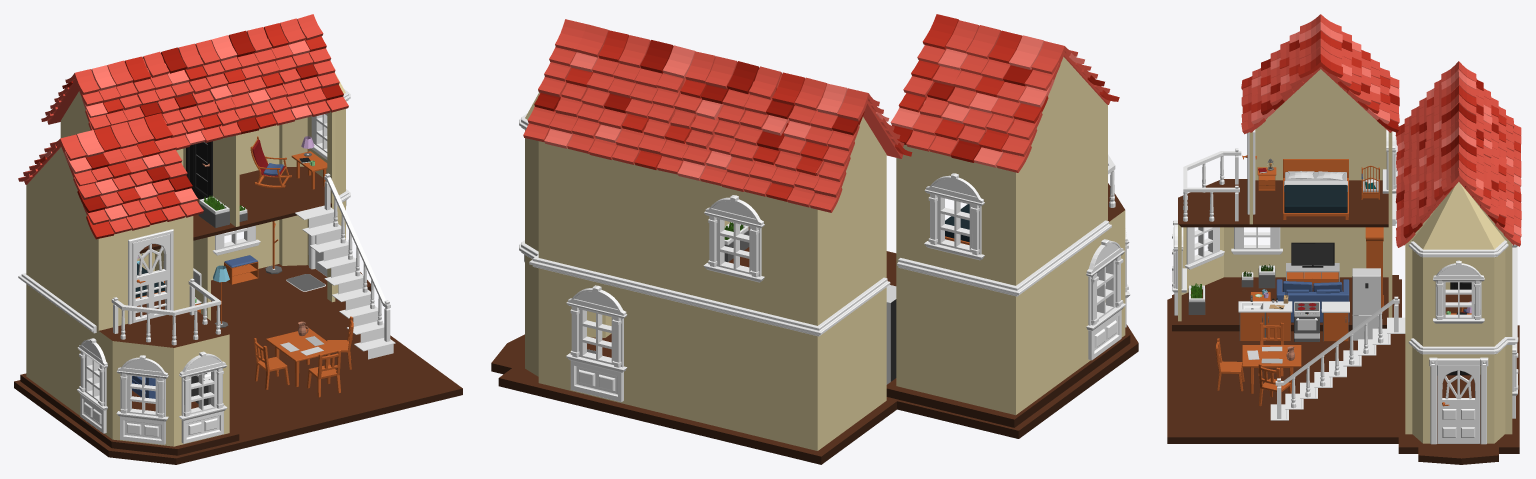
Rendered from rabbit_house.fbx.
The picture shows the model from 3 angles, left to right: view 1: azimuth 30°, elevation 25°; view 2: azimuth 150°, elevation 25°; view 3: azimuth 270°, elevation 25°; orthographic projection. The views are drawn at different scales.
Visible parts, largest first — view 1: house_scene, floor_scene, rooftop_scene.002, rooftop_scene, stairs_scene, window_2_scene.004, window_2_scene.001, door_1_scene.001, window_2_scene.002, balcony_fence_scene, table_scene, door_2_scene (+8 smaller); view 2: house_scene, rooftop_scene.002, rooftop_scene, floor_scene, window_2_scene.003, window_1_scene.001, window_2_scene.002, window_1_scene.002, freezer_scene; view 3: house_scene, floor_scene, rooftop_scene.002, rooftop_scene, stairs_scene, bed_scene, door_1_scene, window_1_scene, kitchen_scene, freezer_scene, couch_scene, balcony_fence_scene (+18 smaller).
Boxes of the visible parts, bbox=[...] form: house_scene: bbox=[18, 72, 350, 446]; floor_scene: bbox=[14, 264, 462, 464]; rooftop_scene.002: bbox=[41, 14, 348, 150]; rooftop_scene: bbox=[18, 113, 203, 239]; stairs_scene: bbox=[295, 173, 395, 359]; window_2_scene.004: bbox=[116, 355, 168, 444]; window_2_scene.001: bbox=[179, 351, 227, 443]; door_1_scene.001: bbox=[132, 234, 169, 323]; window_2_scene.002: bbox=[77, 338, 107, 433]; balcony_fence_scene: bbox=[111, 278, 221, 345]; table_scene: bbox=[266, 328, 338, 386]; door_2_scene: bbox=[190, 142, 209, 199]; house_scene: bbox=[519, 57, 1125, 450]; rooftop_scene.002: bbox=[523, 19, 912, 212]; rooftop_scene: bbox=[890, 14, 1119, 172]; floor_scene: bbox=[491, 227, 1138, 464]; window_2_scene.003: bbox=[566, 285, 627, 402]; window_1_scene.001: bbox=[703, 195, 764, 282]; window_2_scene.002: bbox=[1086, 239, 1125, 360]; window_1_scene.002: bbox=[924, 173, 984, 260]; freezer_scene: bbox=[886, 285, 896, 384]; house_scene: bbox=[1178, 69, 1517, 444]; floor_scene: bbox=[1167, 275, 1519, 464]; rooftop_scene.002: bbox=[1395, 61, 1521, 247]; rooftop_scene: bbox=[1241, 14, 1399, 134]; stairs_scene: bbox=[1270, 296, 1405, 420]; bed_scene: bbox=[1283, 159, 1348, 219]; door_1_scene: bbox=[1437, 365, 1479, 443]; window_1_scene: bbox=[1433, 260, 1484, 323]; kitchen_scene: bbox=[1238, 295, 1292, 340]; freezer_scene: bbox=[1352, 268, 1380, 340]; couch_scene: bbox=[1276, 279, 1349, 322]; balcony_fence_scene: bbox=[1183, 148, 1241, 221].
Bounding box in the file's own units: 1188 × 849 × 992.
